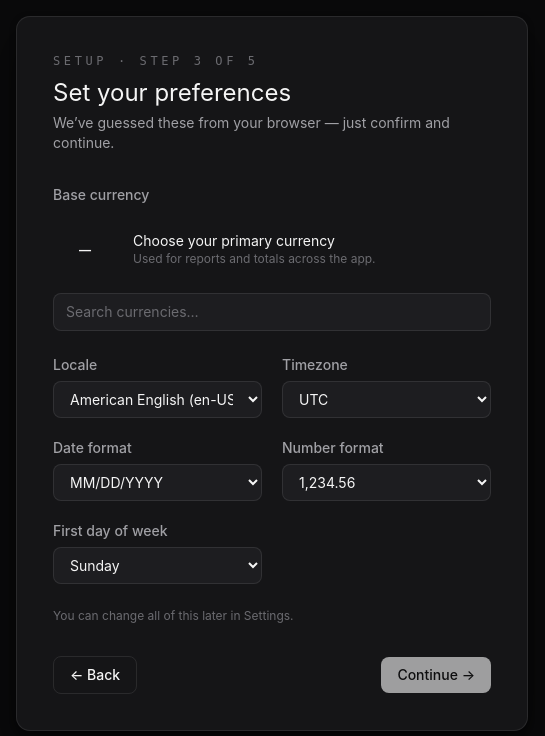
StepPreferences › on 422, surfaces a Callout naming the offending field and stays on the step
Focus the dropdown with placeholder "Search currencies…": (272, 312) [53,293,491,331]
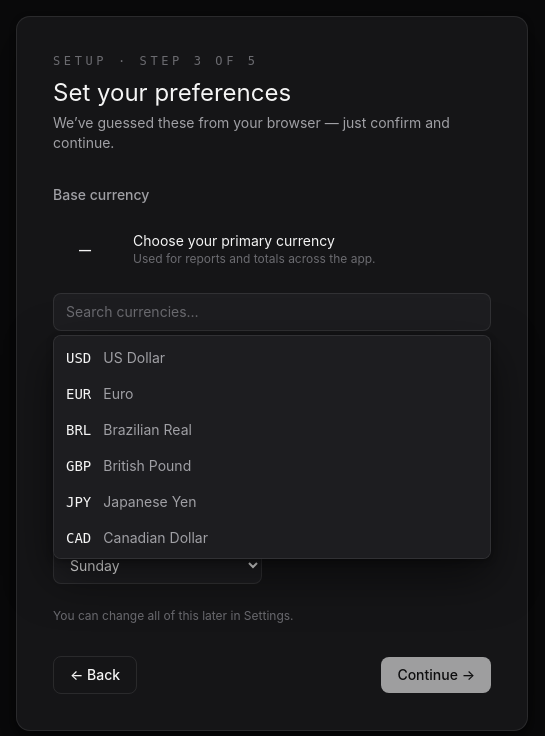
Click the option "USD US Dollar": (134, 358) [54,340,490,376]
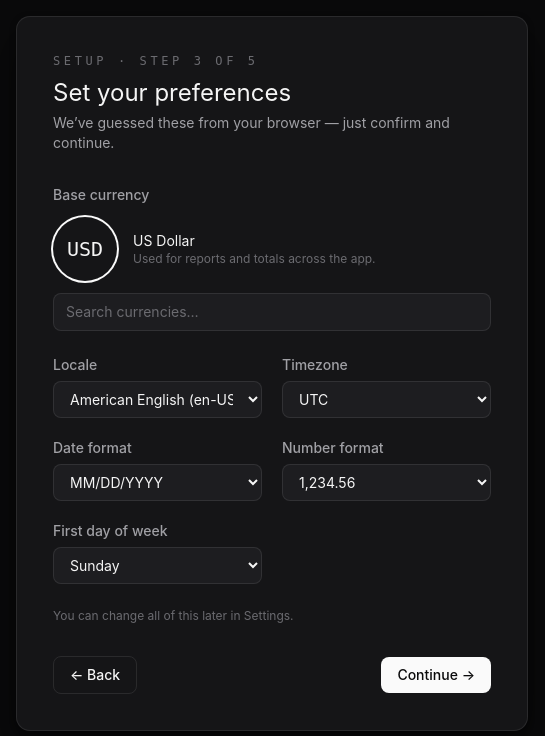
Click the button "Continue →": (436, 675) [381,657,491,693]
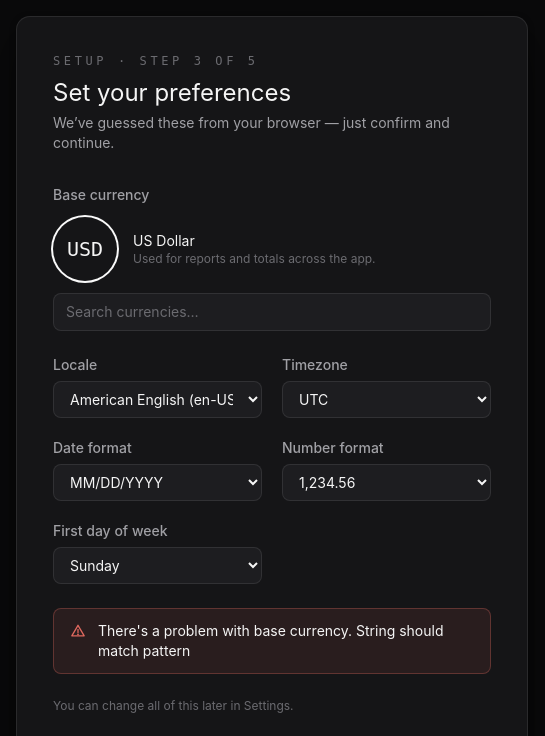
Expected: the heading "Set your preferences" is shown, [53,78,291,107]
Now the message shows "base currency", box [98,622,444,659]
